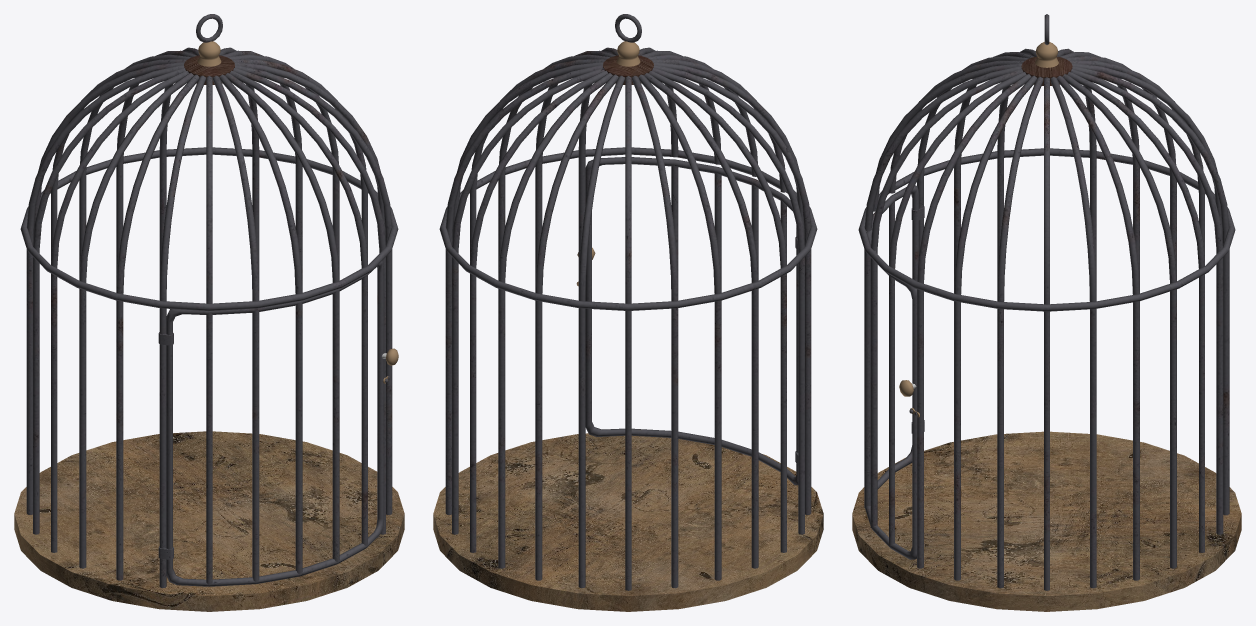
Rendered from bird_cage.glb.
3 views of the same model, side by side, from view 1: azimuth 30°, elevation 25°; view 2: azimuth 150°, elevation 25°; view 3: azimuth 270°, elevation 25° (orthographic).
Visible parts, largest first — view 1: pCube4, pTorus41; view 2: pCube4, pTorus41; view 3: pCube4, pTorus41.
Boxes of the visible parts, bbox=[...] form: pCube4: bbox=[14, 14, 404, 611]; pTorus41: bbox=[158, 260, 398, 586]; pCube4: bbox=[433, 14, 823, 611]; pTorus41: bbox=[576, 157, 798, 485]; pCube4: bbox=[852, 14, 1241, 611]; pTorus41: bbox=[864, 185, 924, 559].
Bounding box in the file's own units: 112 × 163 × 112.
Materials: 1 (1 with a texture image).
